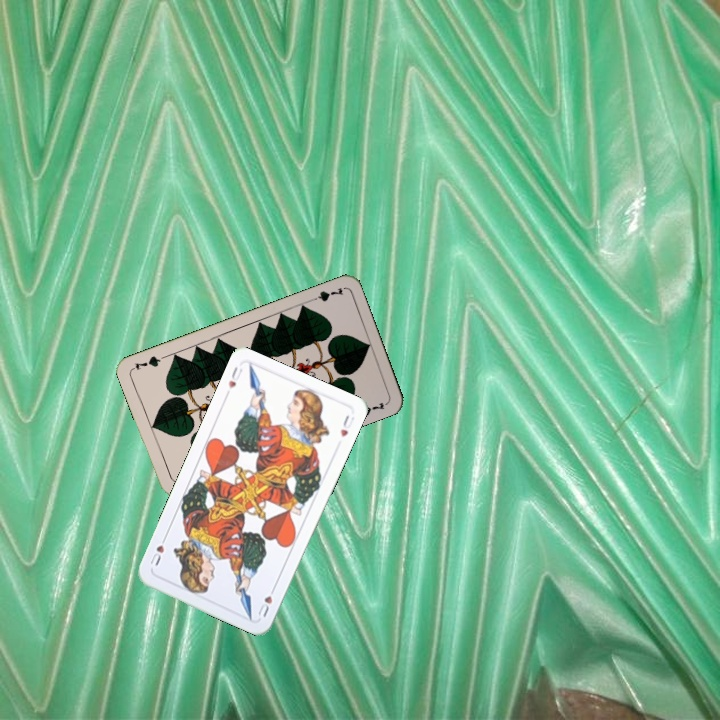G7: (306, 283, 346, 304)
HU: (254, 582, 279, 620), (224, 363, 245, 392)
